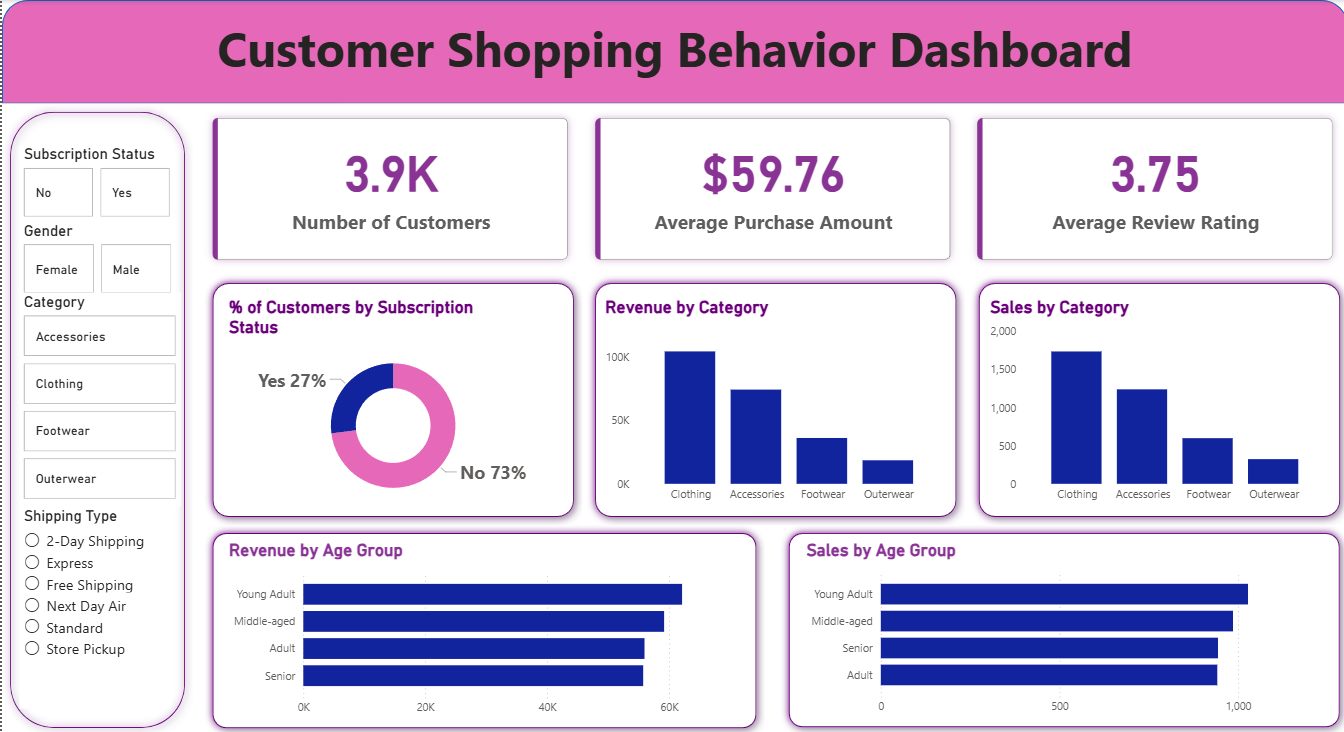

What the dashboard file says about the page in this screenshot:
{"tool":"powerbi","page":{"name":"Page 1","canvas":[1500,820],"ordinal":0},"visuals":[{"type":"cardVisual","fields":{"Data":["public customer.Number of Customers","public customer.Average Purchase Amount","public customer.Average Review Rating"]},"box":[218.6,115.6,1281.3,190.8],"z":2000},{"type":"shape","box":[225.6,584.9,623.9,235.4],"z":2500,"group":"g1"},{"type":"shape","box":[0,0,1499.4,115.3],"z":3000},{"type":"textbox","box":[0,12.4,1499.4,102.9],"z":4000},{"type":"shape","box":[225.4,307,420.5,278.6],"z":5000},{"type":"donutChart","title":"% of Customers by Subscription Status","fields":{"Category":["public customer.subscription_status"],"Y":["CountNonNull(public customer.customer_id)"]},"box":[248.4,331.8,376.2,237.8],"z":6000},{"type":"shape","box":[1078.9,307,420.5,278.6],"z":7000},{"type":"shape","box":[652.1,307,420.5,278.6],"z":8000},{"type":"clusteredColumnChart","title":"Revenue by Category","fields":{"Y":["Sum(public customer.purchase_amount)"],"Category":["public customer.category"]},"box":[667.2,331.8,385.1,237.8],"z":9000},{"type":"clusteredColumnChart","title":"Sales by Category","fields":{"Y":["CountNonNull(public customer.customer_id)"],"Category":["public customer.category"]},"box":[1096.6,331.8,385.1,237.8],"z":10000},{"type":"shape","box":[0,115.3,212.9,704.5],"z":11000},{"type":"advancedSlicerVisual","fields":{"Values":["public customer.subscription_status"]},"box":[19.5,161.5,173.9,85.2],"z":12000},{"type":"advancedSlicerVisual","fields":{"Values":["public customer.gender"]},"box":[19.5,246.5,174.1,85],"z":13000},{"type":"advancedSlicerVisual","fields":{"Values":["public customer.category"]},"box":[19.5,325.9,179.7,238.1],"z":14000},{"type":"listSlicer","fields":{"Values":["public customer.shipping_type"]},"box":[19.5,564,168.5,225.6],"z":15000},{"type":"shape","box":[867.7,585.6,631.7,234.2],"z":16000},{"type":"clusteredBarChart","title":"Sales by Age Group","fields":{"Y":["CountNonNull(public customer.customer_id)"],"Category":["public customer.age_group"]},"box":[890.8,601.5,585.6,204.1],"z":17000},{"type":"clusteredBarChart","title":"Revenue by Age Group","fields":{"Y":["Sum(public customer.purchase_amount)"],"Category":["public customer.age_group"]},"box":[248.4,600.9,578.3,205],"z":17500,"group":"g1"},{"type":"group","id":"g1","title":"Group 1","box":[225.6,584.9,623.9,235.4],"z":17501}]}

Visuals, with their boxes in screenshot pixels (x1, y1, x2, y2), scaled from the page's 1500x820 canvas onto the 1344x732 screenshot:
cardVisual - public customer.Number of Customers x public customer.Average Purchase Amount: 196, 103, 1343, 274
shape: 202, 522, 761, 731
shape: 0, 0, 1343, 103
textbox: 0, 11, 1343, 103
shape: 202, 274, 579, 523
"% of Customers by Subscription Status" donutChart: 223, 296, 560, 508
shape: 967, 274, 1343, 523
shape: 584, 274, 961, 523
"Revenue by Category" clusteredColumnChart: 598, 296, 943, 508
"Sales by Category" clusteredColumnChart: 983, 296, 1328, 508
shape: 0, 103, 191, 731
advancedSlicerVisual - public customer.subscription_status: 17, 144, 173, 220
advancedSlicerVisual - public customer.gender: 17, 220, 173, 296
advancedSlicerVisual - public customer.category: 17, 291, 178, 503
listSlicer - public customer.shipping_type: 17, 503, 168, 705
shape: 777, 523, 1343, 731
"Sales by Age Group" clusteredBarChart: 798, 537, 1323, 719
"Revenue by Age Group" clusteredBarChart: 223, 536, 741, 719
"Group 1" group: 202, 522, 761, 731
